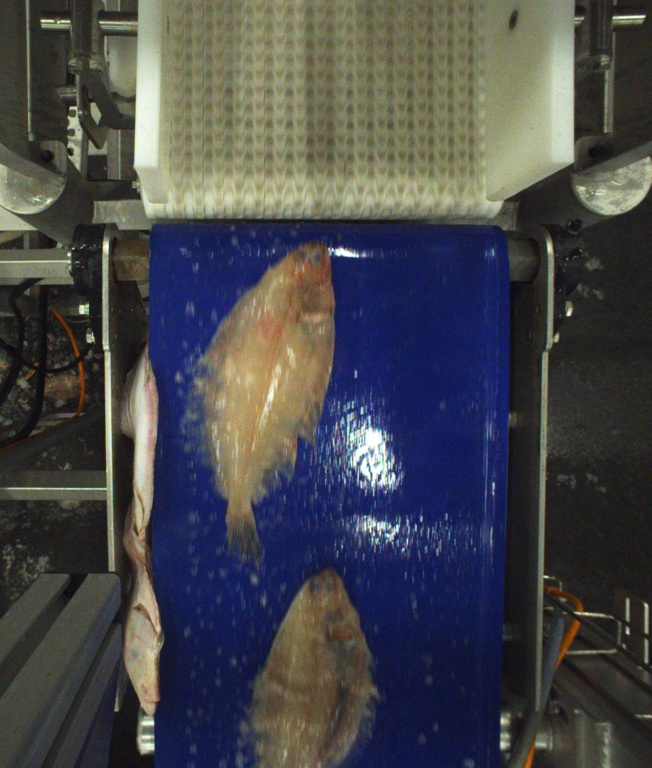WIT: (252, 565, 371, 768)
